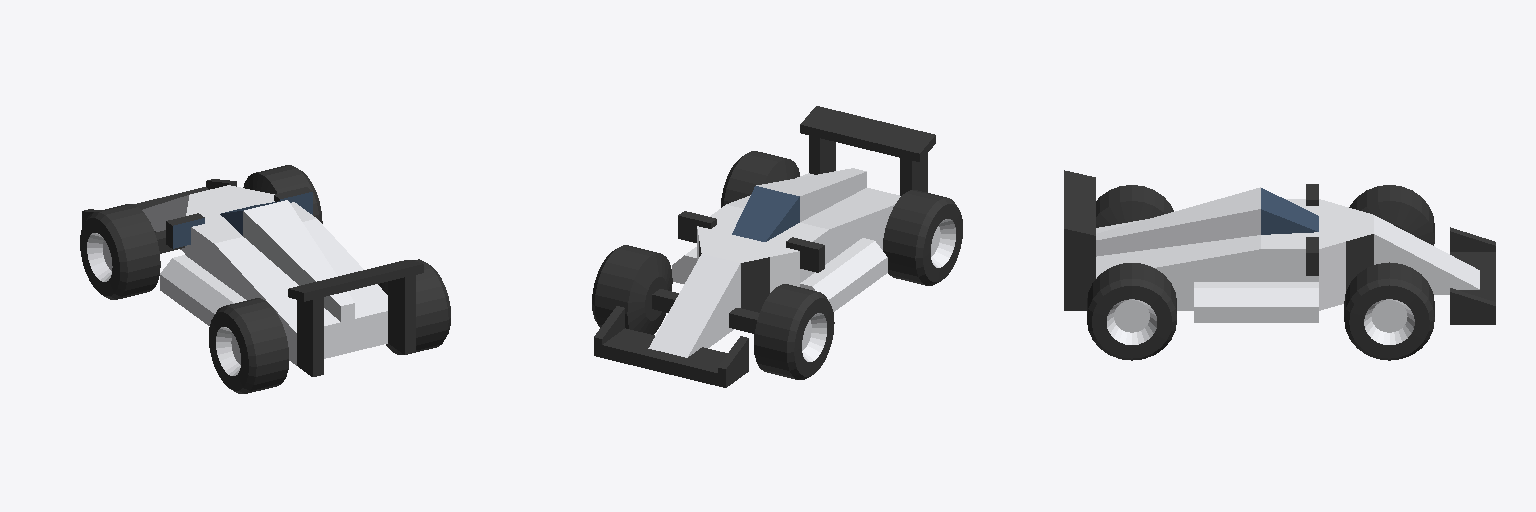
File: raceCarWhite.obj
The picture shows the model from 3 angles: view 1: azimuth 30°, elevation 25°; view 2: azimuth 150°, elevation 25°; view 3: azimuth 270°, elevation 25°; orthographic projection.
Visible parts, largest first — view 1: raceCarWhite; view 2: raceCarWhite; view 3: raceCarWhite.
Boxes of the visible parts, <box> form: raceCarWhite: <box>80,165,450,393</box>; raceCarWhite: <box>592,106,962,387</box>; raceCarWhite: <box>1064,170,1495,360</box>.
Size of the model in its own units: 0.7288 by 0.397 by 1.35.